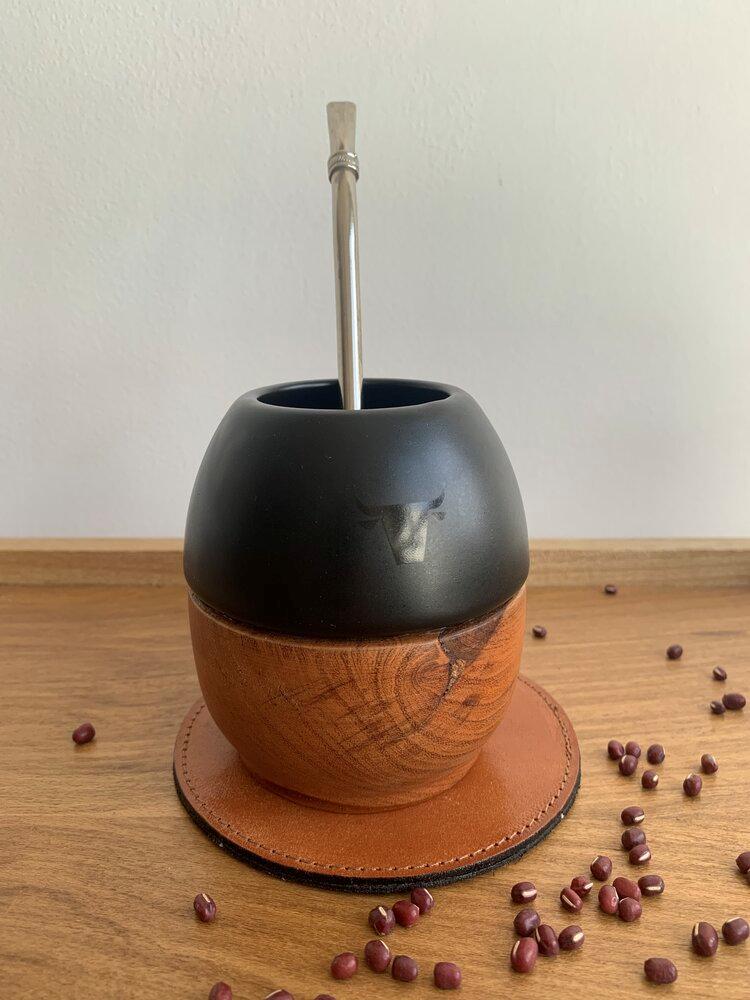madera: (187, 366, 534, 811)
mate: (189, 368, 536, 813)
